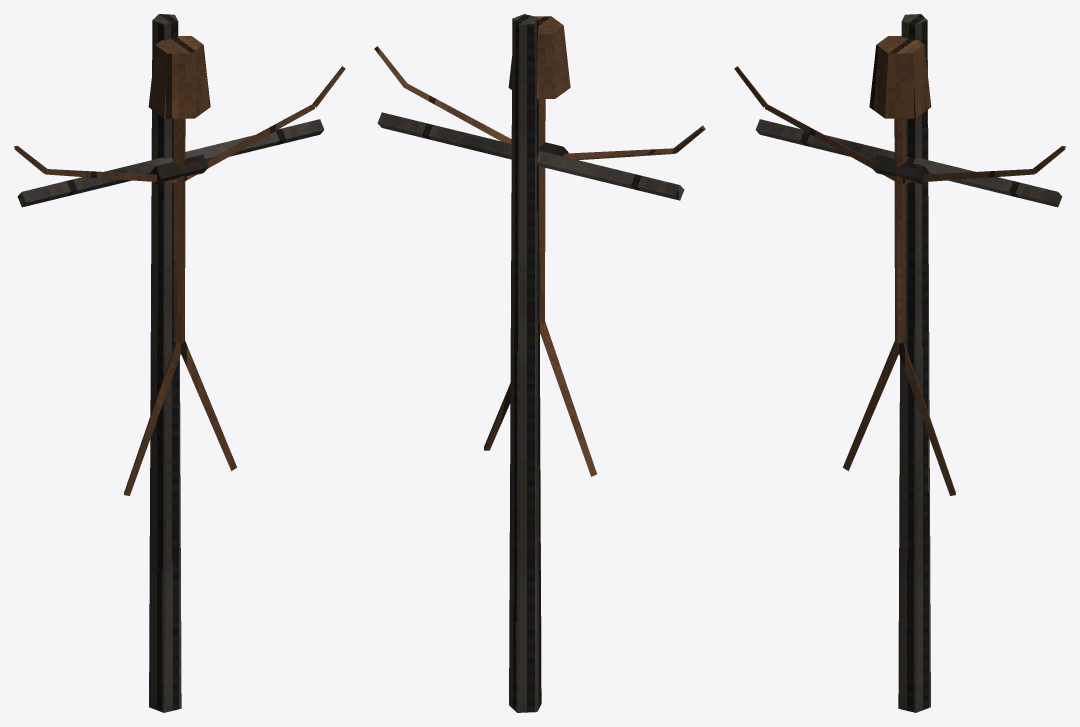
Rendered from estaca_ramas.obj.
3 renders of one model, left to right at view 1: azimuth 30°, elevation 25°; view 2: azimuth 150°, elevation 25°; view 3: azimuth 330°, elevation 25°, orthographic.
Parts seen in each view (by area): view 1: estaca_ramas; view 2: estaca_ramas; view 3: estaca_ramas.
Part boxes in pixels (left/top/right/bottom): estaca_ramas: left=14, top=14, right=345, bottom=712; estaca_ramas: left=374, top=14, right=705, bottom=712; estaca_ramas: left=734, top=14, right=1065, bottom=712.
Size of the model in its own units: 1.11 by 2.2 by 0.22.
3 materials, 3 textured.
